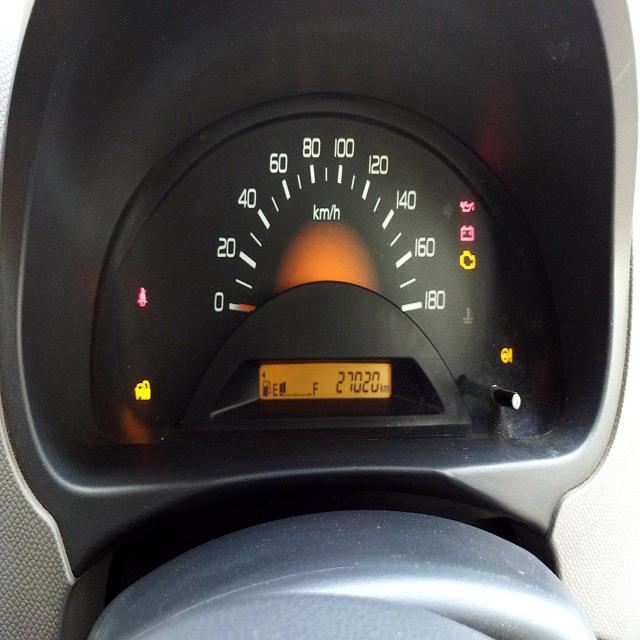odometer: (334, 368, 380, 395)
